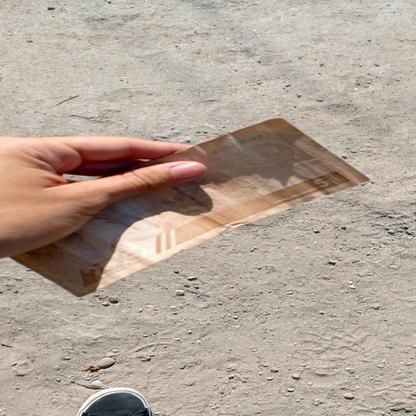five-back-vef: (7, 116, 370, 296)
